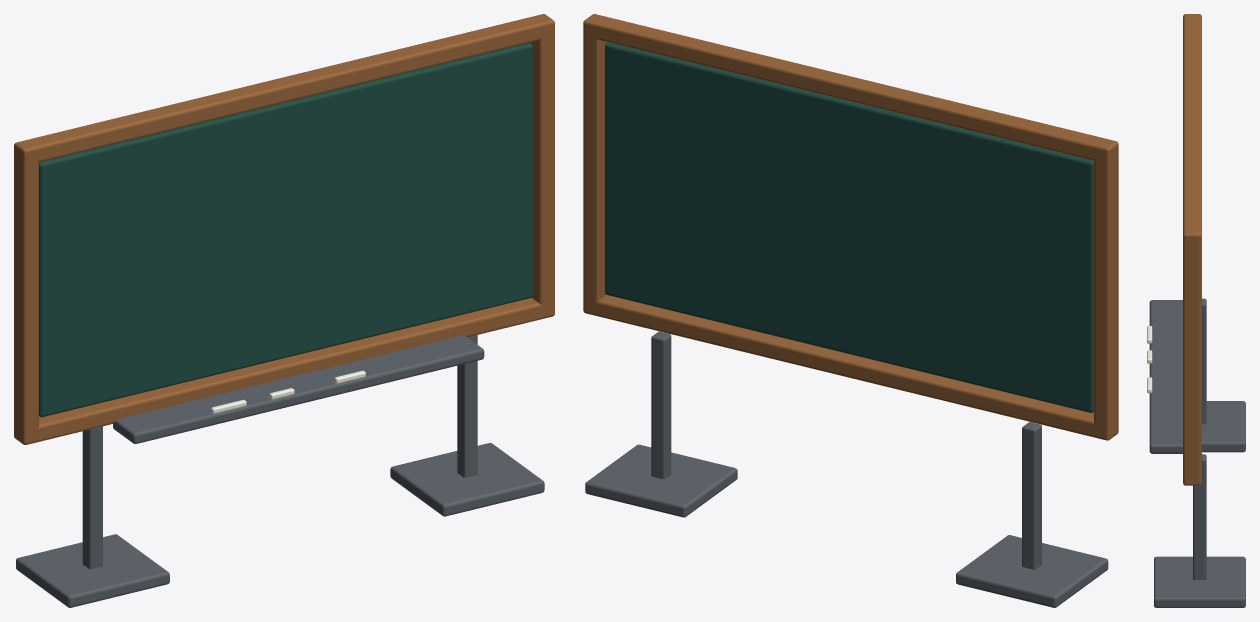
File: blackboard.glb
The picture shows the model from 3 angles, left to right: view 1: azimuth 30°, elevation 25°; view 2: azimuth 150°, elevation 25°; view 3: azimuth 270°, elevation 25°; orthographic projection. The views are drawn at different scales.
Parts seen in each view (by area): view 1: Slate, FrameTop, FrameBottom, ChalkTray, FrameLeft, StandFoot2, StandFoot1, FrameRight, StandPost1, StandPost2; view 2: Slate, FrameTop, FrameBottom, FrameLeft, StandFoot2, StandFoot1, FrameRight, StandPost2, StandPost1; view 3: ChalkTray, FrameRight, StandFoot2, FrameTop, StandFoot1, StandPost2, StandPost1, FrameBottom.
Part boxes in pixels (<box>): Slate: <box>39,42,532,417</box>; FrameTop: <box>14,16,554,163</box>; FrameBottom: <box>14,298,554,444</box>; ChalkTray: <box>113,335,484,443</box>; FrameLeft: <box>14,140,38,444</box>; StandFoot2: <box>390,443,544,516</box>; StandFoot1: <box>16,534,169,607</box>; FrameRight: <box>530,14,554,318</box>; StandPost1: <box>82,426,102,569</box>; StandPost2: <box>457,335,477,477</box>; Slate: <box>605,42,1093,412</box>; FrameTop: <box>583,16,1118,160</box>; FrameBottom: <box>583,295,1118,440</box>; FrameLeft: <box>1094,138,1118,440</box>; StandFoot2: <box>585,444,737,517</box>; StandFoot1: <box>956,535,1108,607</box>; FrameRight: <box>583,14,607,315</box>; StandPost2: <box>651,331,671,479</box>; StandPost1: <box>1022,422,1041,569</box>; ChalkTray: <box>1149,300,1182,453</box>; FrameRight: <box>1183,228,1201,485</box>; StandFoot2: <box>1154,556,1245,607</box>; FrameTop: <box>1183,18,1201,245</box>; StandFoot1: <box>1202,401,1245,452</box>; StandPost2: <box>1193,454,1206,579</box>; StandPost1: <box>1202,298,1206,424</box>; FrameBottom: <box>1183,474,1201,485</box>.
Size of the model in its own units: 2.5 by 2.04 by 0.4725.
